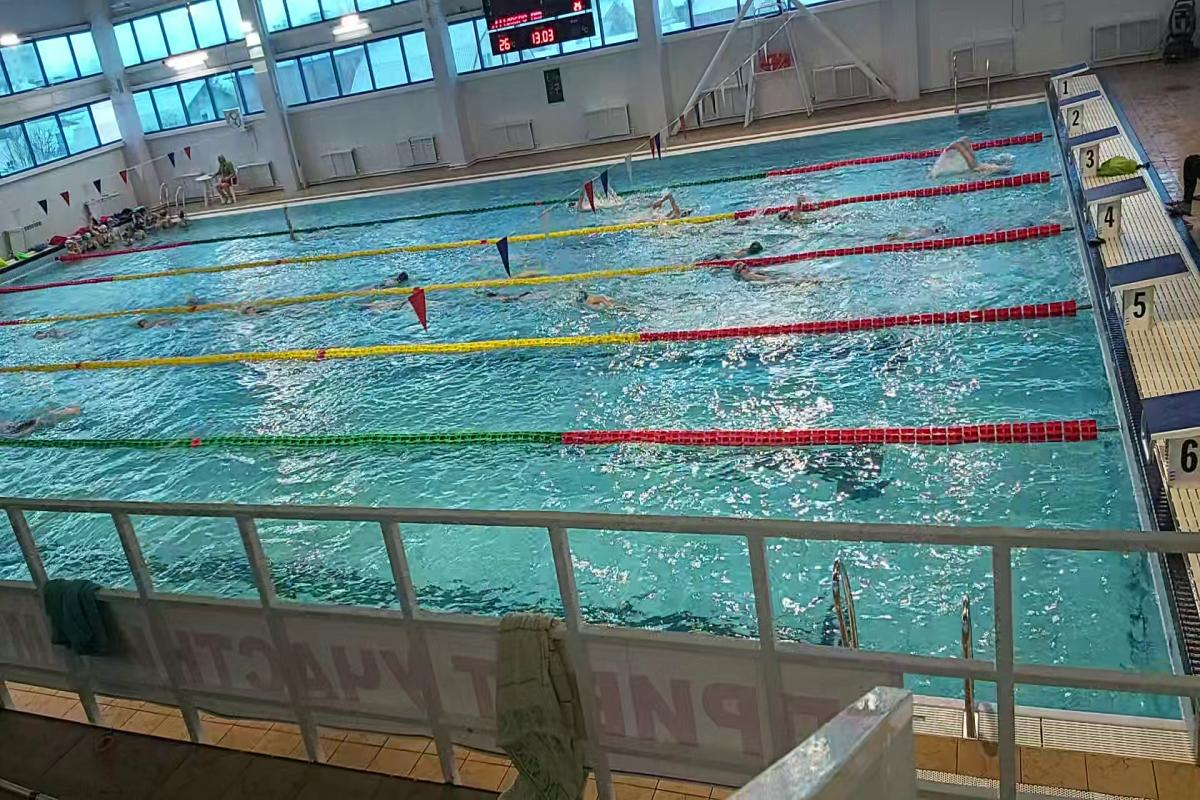swimmer: (2, 398, 92, 436), (560, 282, 640, 320), (943, 138, 1020, 175), (727, 265, 829, 292), (700, 234, 772, 260), (352, 291, 410, 319), (646, 190, 699, 215), (368, 268, 413, 291), (132, 313, 188, 331), (229, 304, 284, 322), (775, 206, 824, 225)
